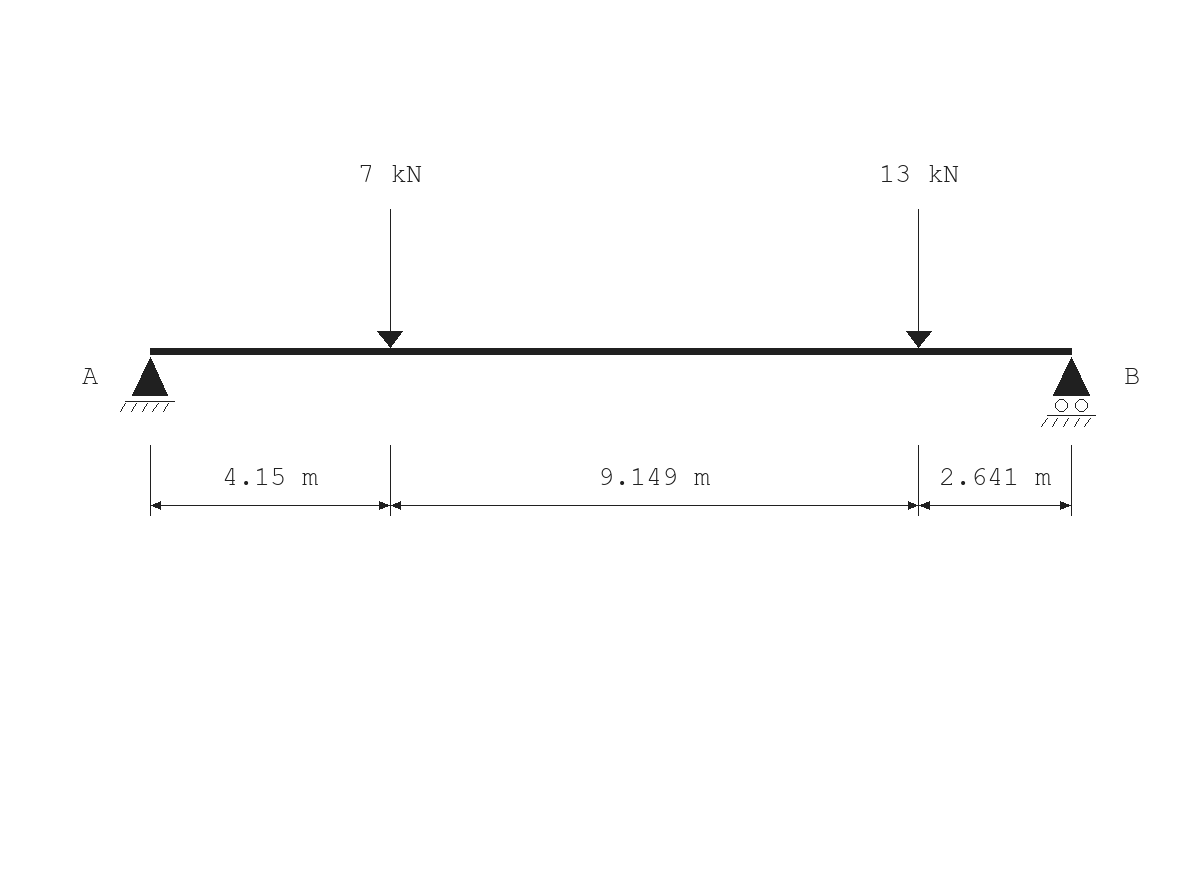pin_support: (120, 357, 175, 412)
point_load: (377, 209, 403, 348), (906, 209, 932, 348)
roller_support: (1041, 357, 1096, 427)
